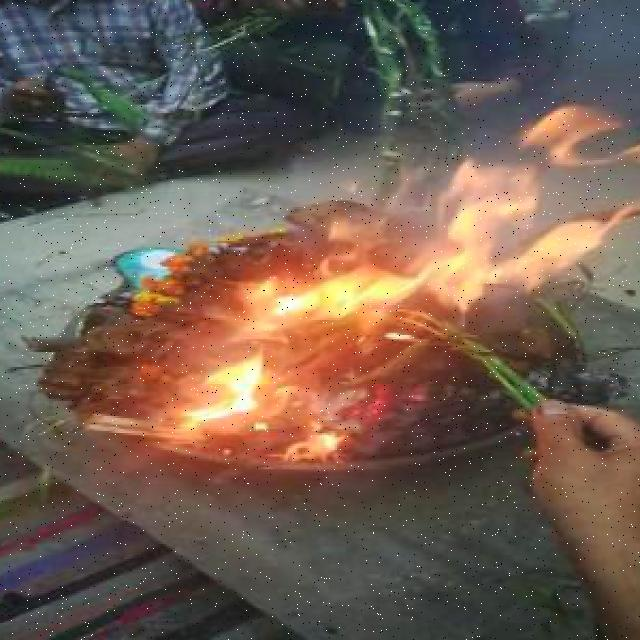fire: (222, 182, 614, 344), (134, 348, 348, 467), (439, 106, 640, 184)
smoke: (493, 0, 640, 105)
